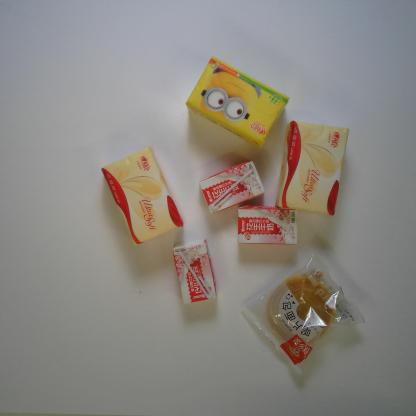Dessert: (241, 251, 366, 375)
Milk: (199, 160, 265, 214), (173, 239, 218, 304), (237, 205, 299, 245)
Tissue: (185, 56, 290, 150), (100, 146, 184, 246), (274, 120, 349, 218)
